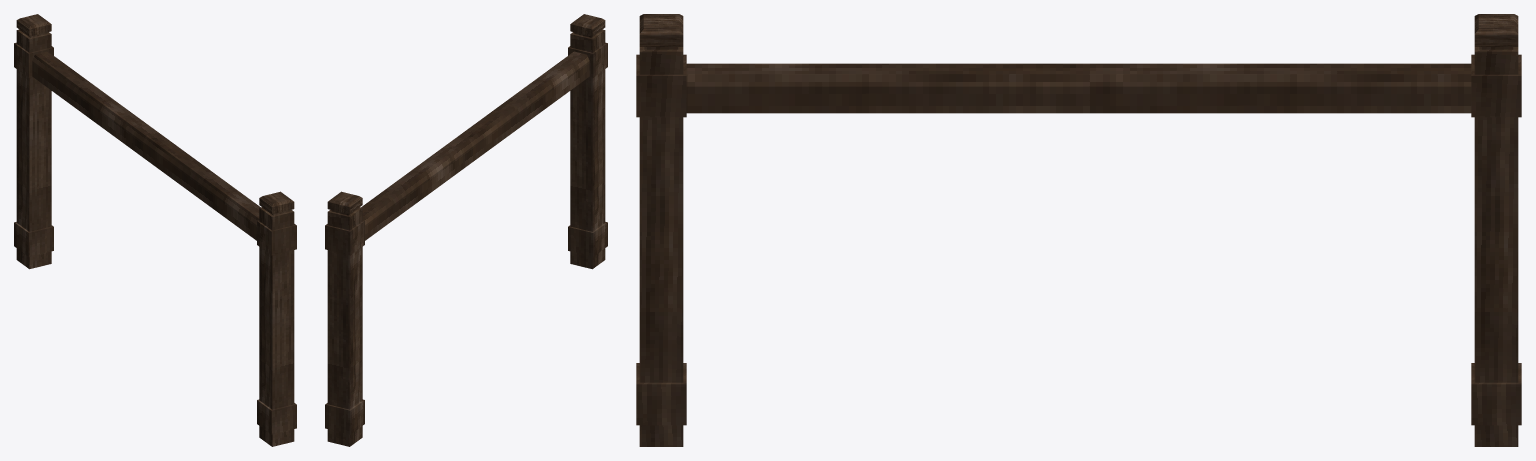
File: Hitching_Post.fbx
The picture shows the model from 3 angles, left to right: view 1: azimuth 30°, elevation 25°; view 2: azimuth 150°, elevation 25°; view 3: azimuth 270°, elevation 25°; orthographic projection. The views are drawn at different scales.
Parts seen in each view (by area): view 1: Hitching_Post; view 2: Hitching_Post; view 3: Hitching_Post.
Part boxes in pixels (x1=…): Hitching_Post: x1=14, y1=14, x2=296, y2=446; Hitching_Post: x1=325, y1=14, x2=607, y2=446; Hitching_Post: x1=636, y1=14, x2=1521, y2=446.
Size of the model in its own units: 12.07 by 110 by 212.
Materials: 1 (1 with a texture image).
